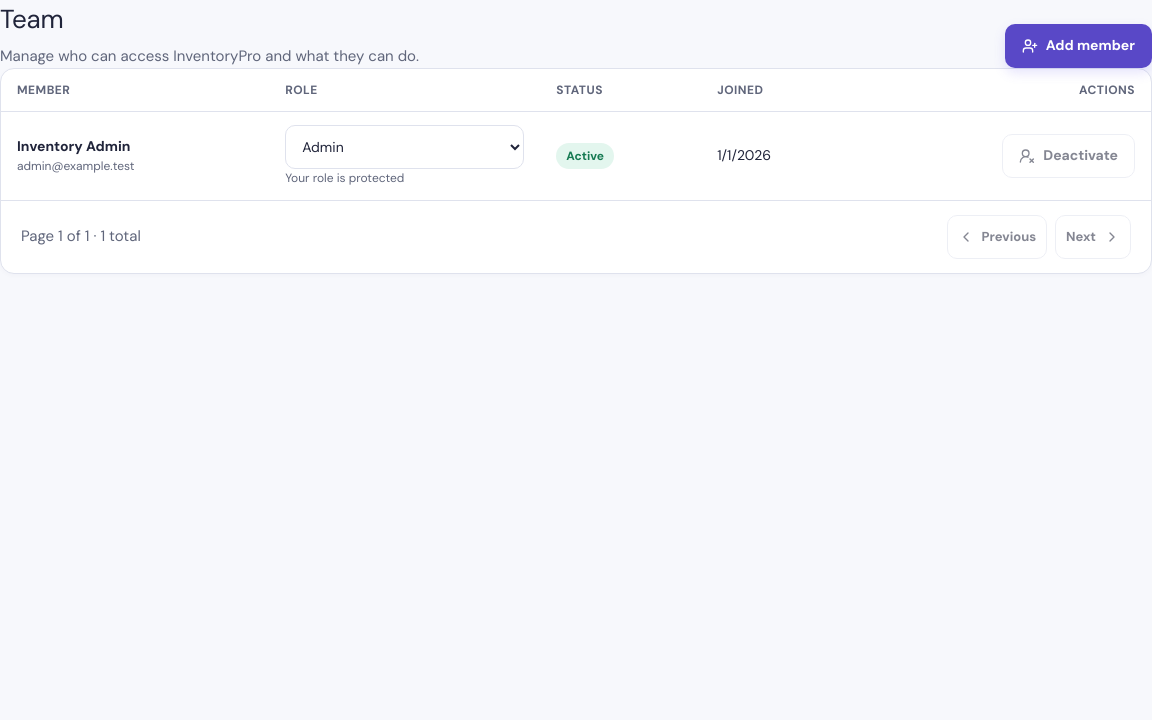
Test: TeamPage › shows live password feedback and creates a member only after every rule passes
This screenshot has width=1152, height=720.
Expected: the text "Inventory Admin" is shown, [17,137,130,155]
Step 1. Click the button "Add member" → click(1078, 46), box [1005,24,1151,68]
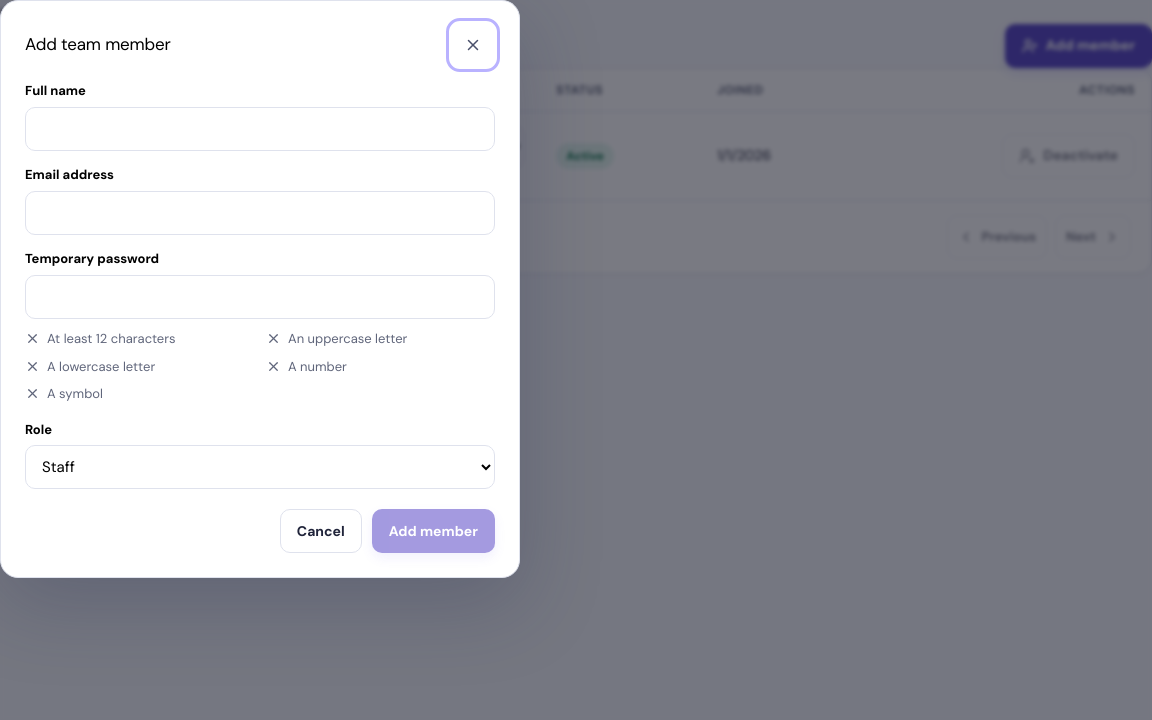
Now the button "Add member" is disabled, box [372,509,495,553]
Step 2. Type "New Staff" into the field labelled "Full name" → (260, 129), box [25,106,495,151]
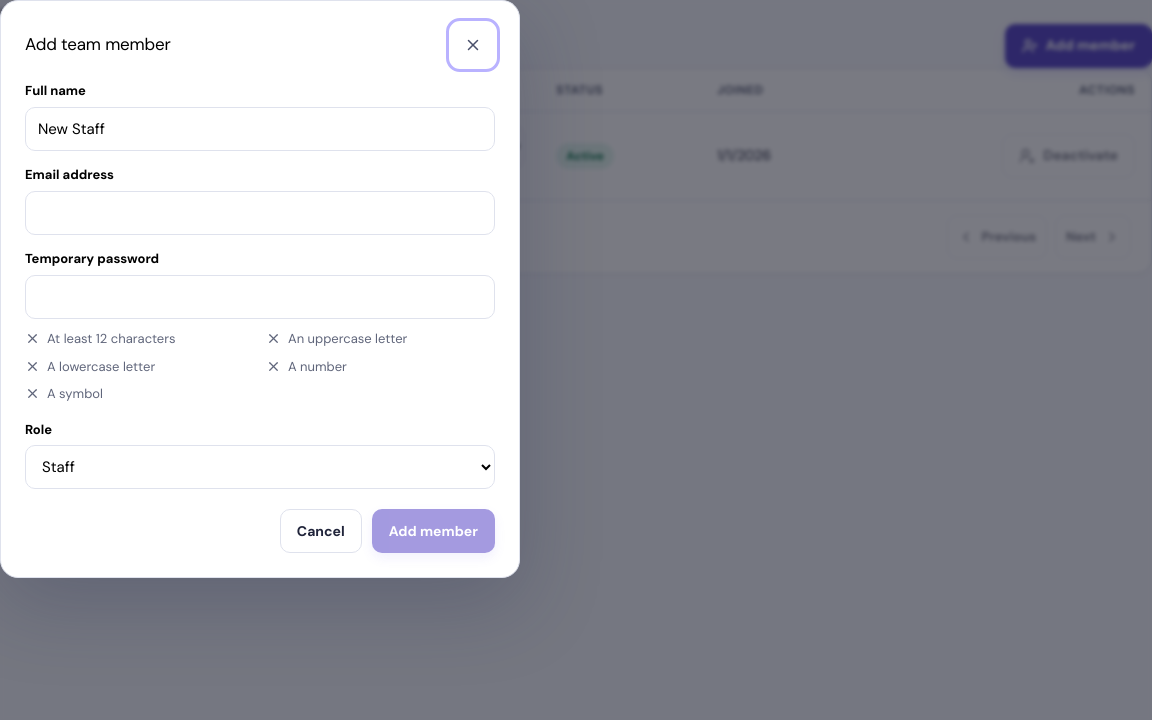
Step 3. Type "new-staff@example.test" into the field labelled "Email address" → (260, 213), box [25,190,495,235]
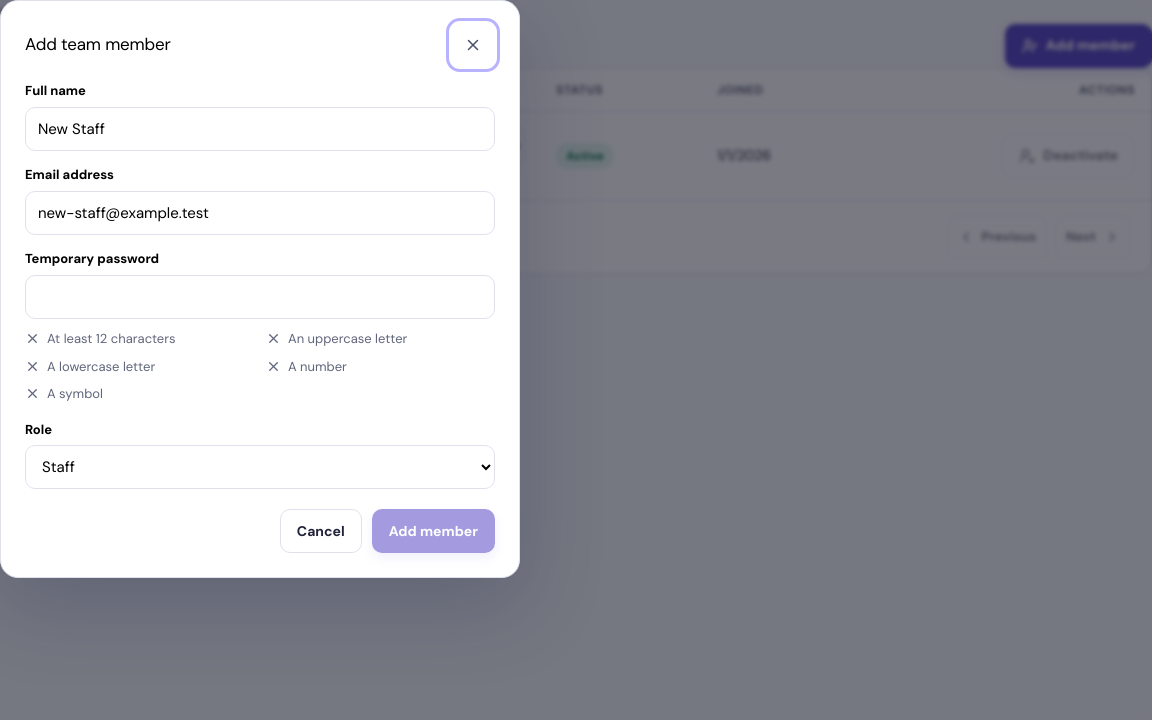
Step 4. Type "InventoryPro!2026" into the password field labelled "Temporary password" → (260, 297), box [25,274,495,319]
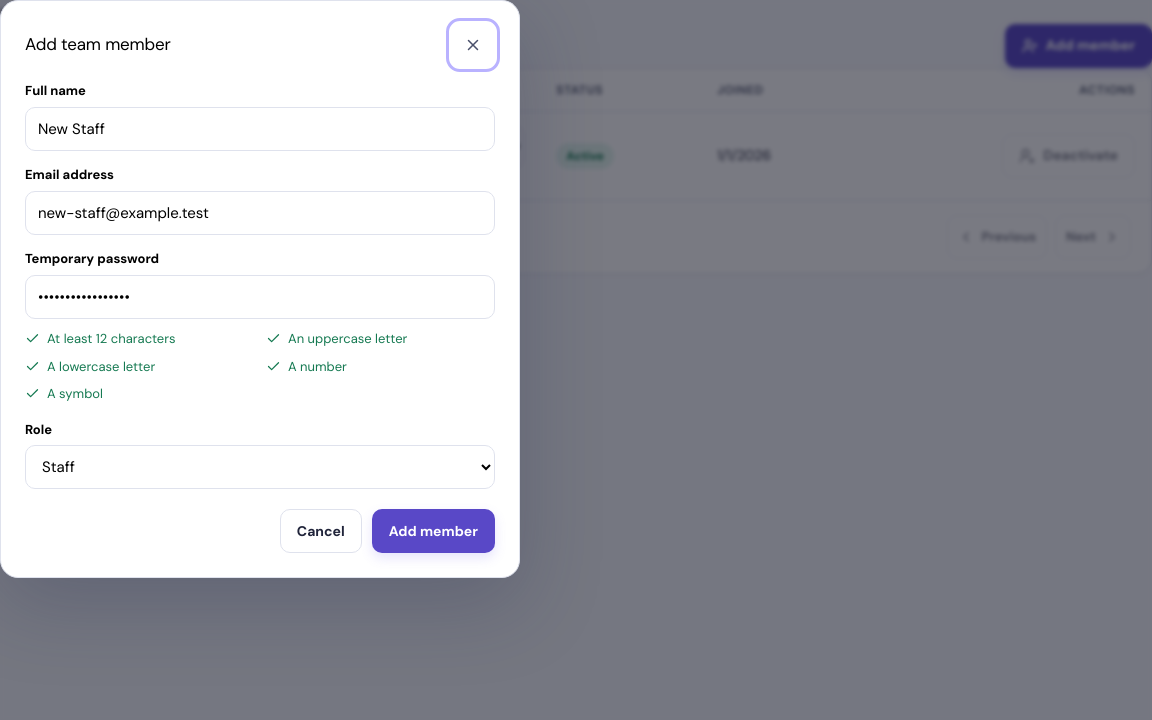
Step 5. Select "Admin" in the dropdown labelled "Role" → (260, 467), box [25,445,495,489]
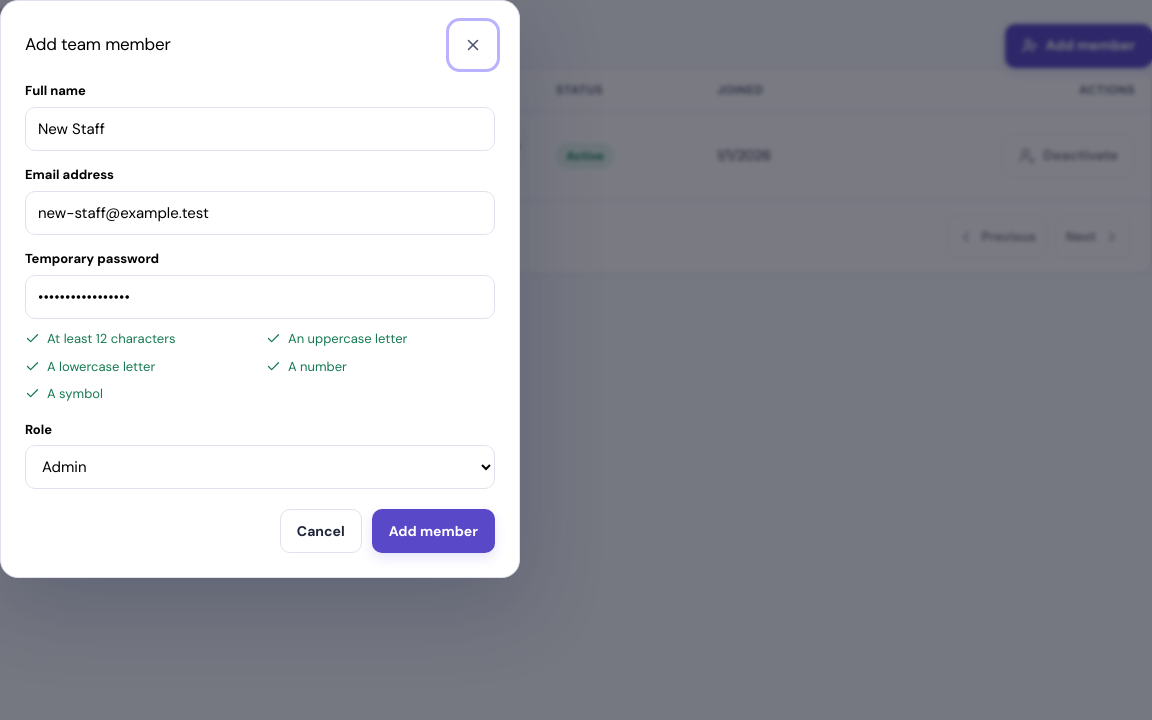
Now the button "Add member" is enabled
Step 6. Click the button "Add member" → click(433, 531), box [372,509,495,553]
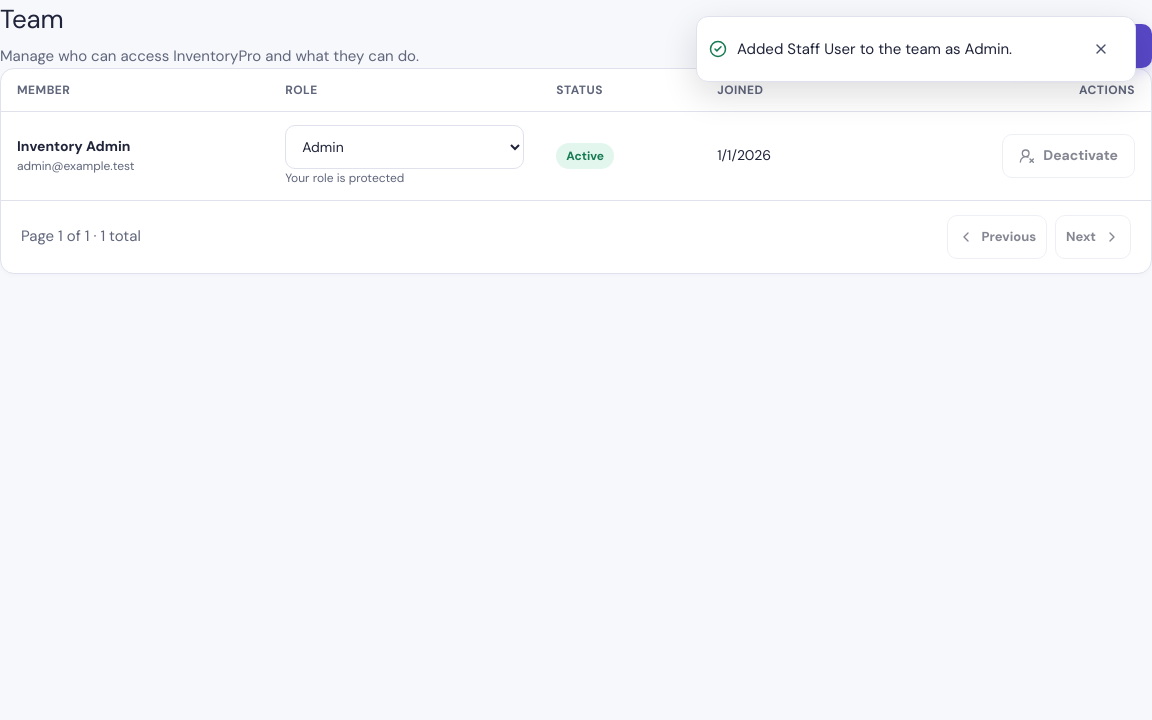
Now the text "Added Staff User to the team as Admin." is shown, box [737,39,1012,59]
